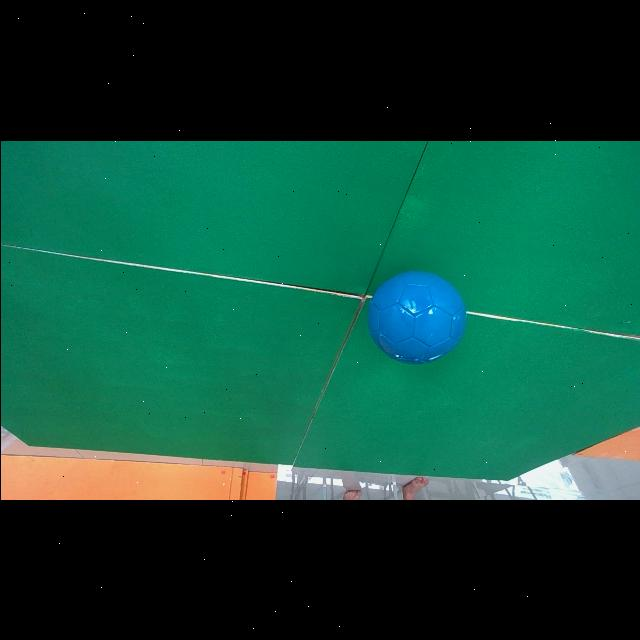B: (367, 272, 464, 363)
